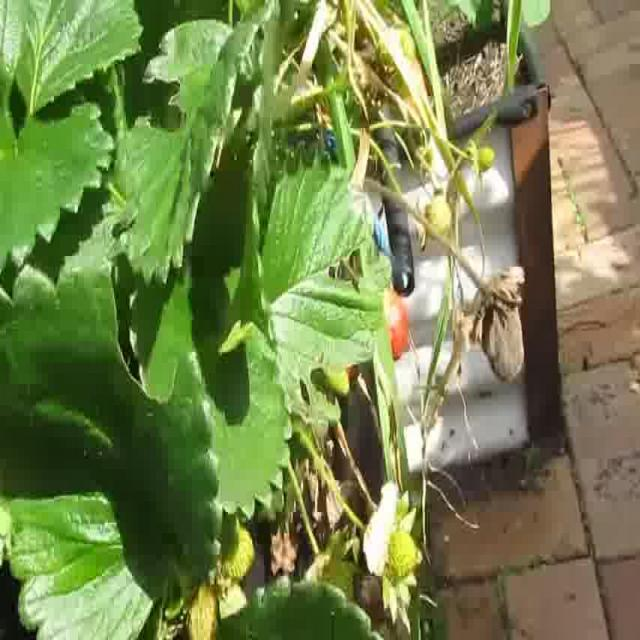Fruta sana: (378, 282, 411, 364)
Moho gris: (473, 282, 528, 386)
